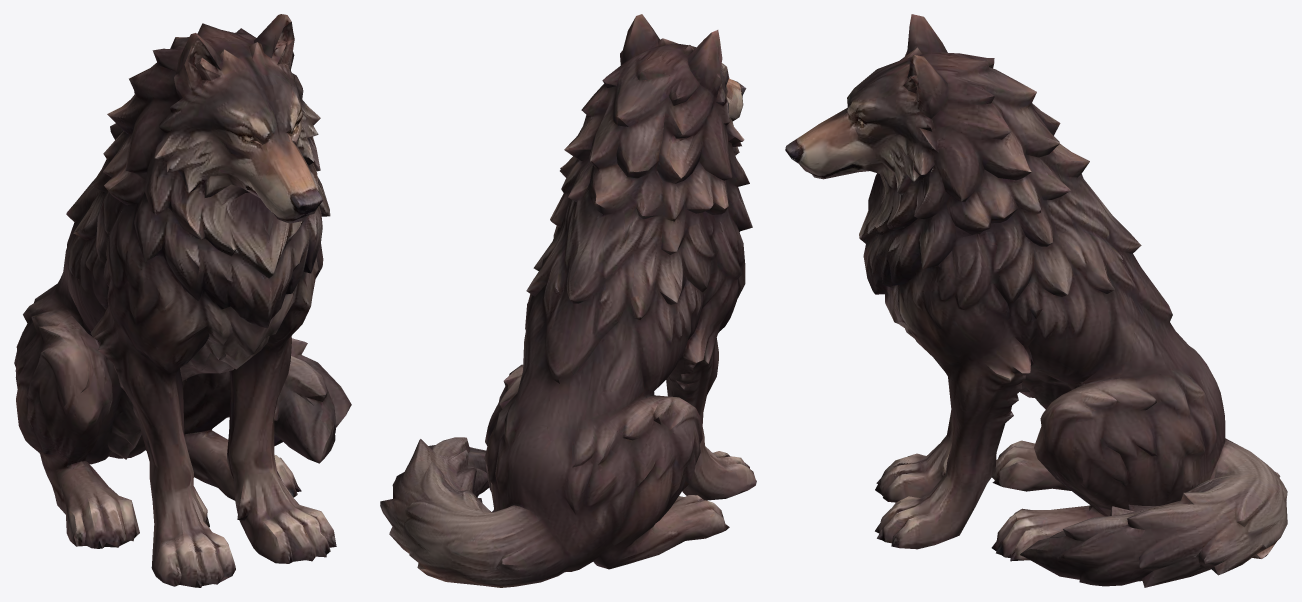
Rendered from wolf_realistic_sitting_lod0.glb.
3 renders of one model, left to right at view 1: azimuth 30°, elevation 25°; view 2: azimuth 150°, elevation 25°; view 3: azimuth 270°, elevation 25°, orthographic. The views are drawn at different scales.
Visible parts, largest first — view 1: wolf_realistic_sitting_lod0; view 2: wolf_realistic_sitting_lod0; view 3: wolf_realistic_sitting_lod0.
Part boxes in pixels (x1,y1,x2,y2): wolf_realistic_sitting_lod0: [14, 14, 351, 587]; wolf_realistic_sitting_lod0: [380, 14, 756, 587]; wolf_realistic_sitting_lod0: [785, 14, 1287, 587].
Size of the model in its own units: 0.6267 by 0.9996 by 0.9512.
Materials: 1 (1 with a texture image).
